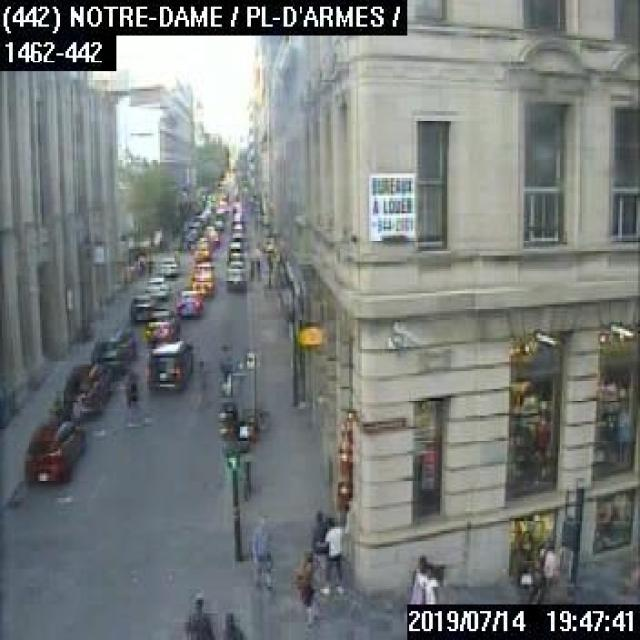cyclist: (219, 341, 233, 395)
pedestrian: (321, 512, 346, 591), (306, 510, 331, 588), (296, 546, 320, 624), (249, 516, 271, 586), (532, 539, 556, 602), (183, 591, 214, 638), (514, 528, 532, 587), (406, 553, 426, 603), (124, 369, 140, 423), (422, 566, 438, 602), (220, 611, 240, 638), (137, 250, 144, 279), (247, 252, 254, 280), (145, 251, 152, 274), (254, 253, 260, 278)
vehicle: (21, 416, 85, 482), (60, 362, 111, 413), (90, 325, 136, 374), (148, 338, 188, 392), (142, 306, 177, 347), (176, 288, 205, 316), (144, 273, 169, 298), (128, 292, 152, 317), (189, 270, 213, 294), (223, 266, 247, 290), (158, 253, 180, 278), (193, 235, 208, 258), (202, 224, 218, 245), (226, 251, 244, 268), (192, 259, 212, 272), (227, 239, 240, 252), (231, 221, 243, 231), (230, 230, 242, 240)
